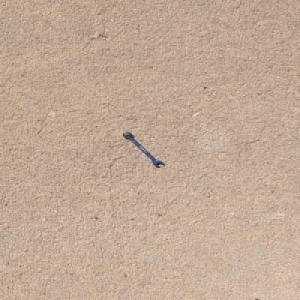Wrench: (122, 131, 164, 167)
